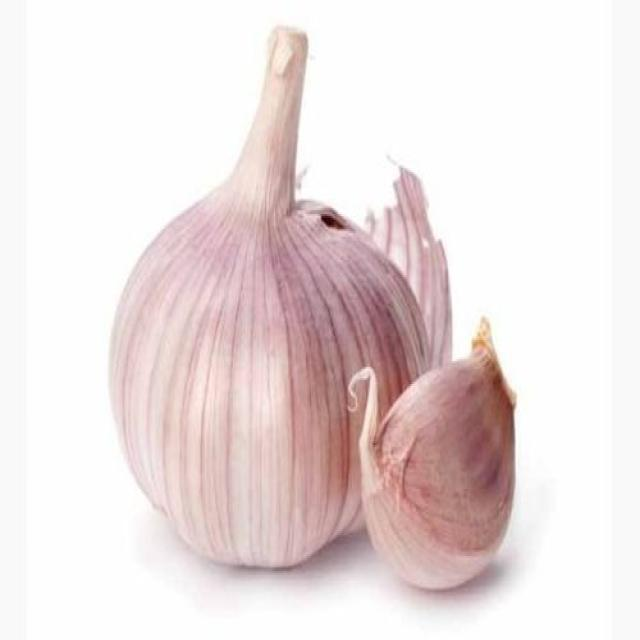garlic: (94, 153, 442, 579)
